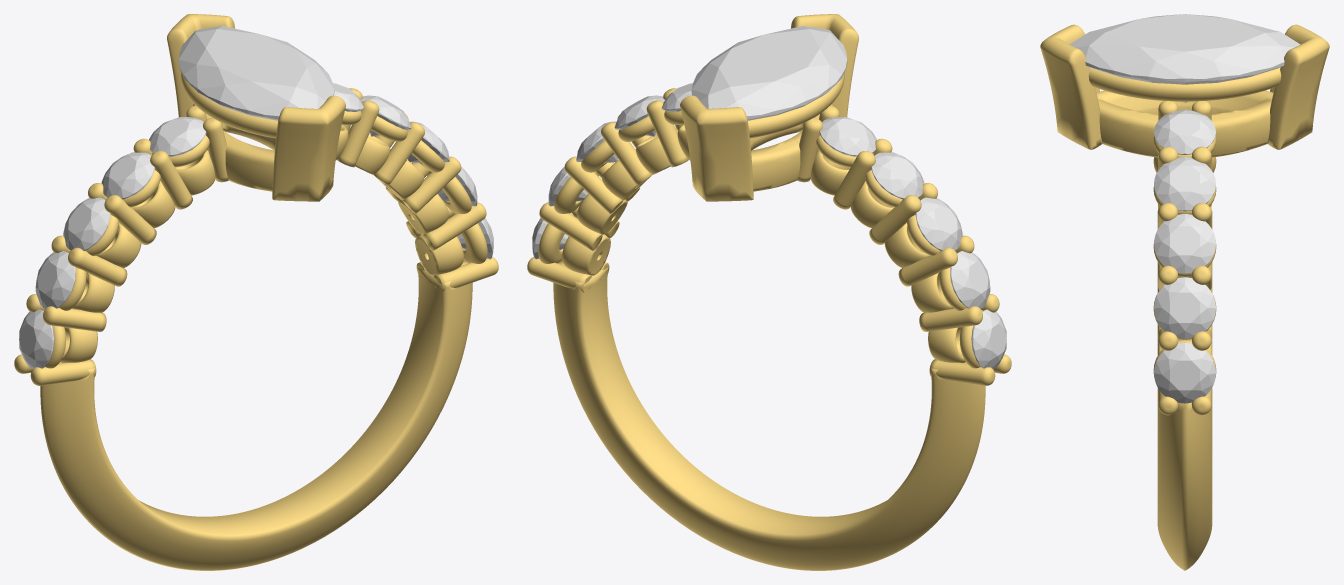
Rendered from diamond-marquise-yellowgold-protectededges2prongs-knifeedge-11stone.glb.
3 views of the same model, side by side, from view 1: azimuth 30°, elevation 25°; view 2: azimuth 150°, elevation 25°; view 3: azimuth 270°, elevation 25° (orthographic).
Parts seen in each view (by area): view 1: metal, stone, dia.004, dia.005, dia.003, dia.006, dia, dia.010; view 2: metal, stone, dia.004, dia.005, dia.003, dia.006, dia, dia.010; view 3: metal, stone, dia.008, dia.007, dia.009, dia.010, dia.011.
Boxes of the visible parts, left/top/right/bottom form: metal: left=14, top=14, right=498, bottom=570; stone: left=178, top=26, right=334, bottom=120; dia.004: left=63, top=197, right=110, bottom=250; dia.005: left=101, top=152, right=154, bottom=199; dia.003: left=35, top=251, right=75, bottom=308; dia.006: left=149, top=117, right=206, bottom=156; dia: left=19, top=309, right=54, bottom=369; dia.010: left=361, top=95, right=411, bottom=136; metal: left=527, top=14, right=1011, bottom=570; stone: left=691, top=26, right=847, bottom=120; dia.004: left=915, top=197, right=962, bottom=250; dia.005: left=871, top=152, right=924, bottom=199; dia.003: left=950, top=251, right=990, bottom=308; dia.006: left=819, top=117, right=876, bottom=156; dia: left=971, top=309, right=1006, bottom=369; dia.010: left=614, top=95, right=664, bottom=136; metal: left=1040, top=24, right=1329, bottom=570; stone: left=1069, top=14, right=1300, bottom=102; dia.008: left=1154, top=277, right=1215, bottom=339; dia.007: left=1154, top=342, right=1215, bottom=403; dia.009: left=1154, top=214, right=1215, bottom=273; dia.010: left=1154, top=157, right=1215, bottom=211; dia.011: left=1154, top=109, right=1215, bottom=154.
Bounding box in the file's own units: 21.97 × 22.93 × 11.69.
